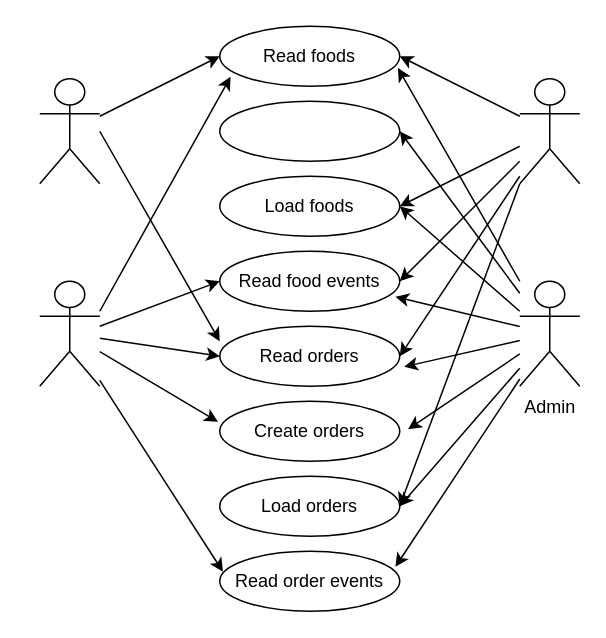
Image size: 606x638. Some labels were removed from this diagram. Here are the shapes that lost their labels. From the top down, the box of each, then its label:
(38, 77, 100, 184): Guest user
(218, 100, 400, 161): Create foods
(518, 77, 580, 184): Worker
(38, 280, 100, 386): User
